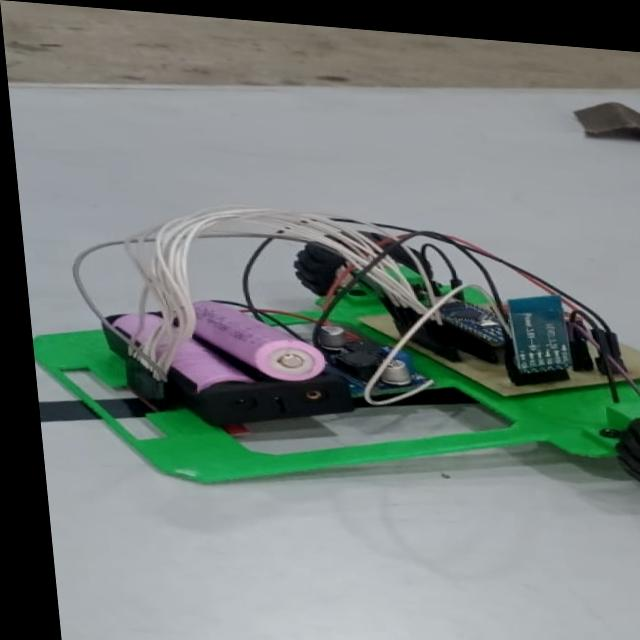vehicle: (37, 186, 640, 512)
